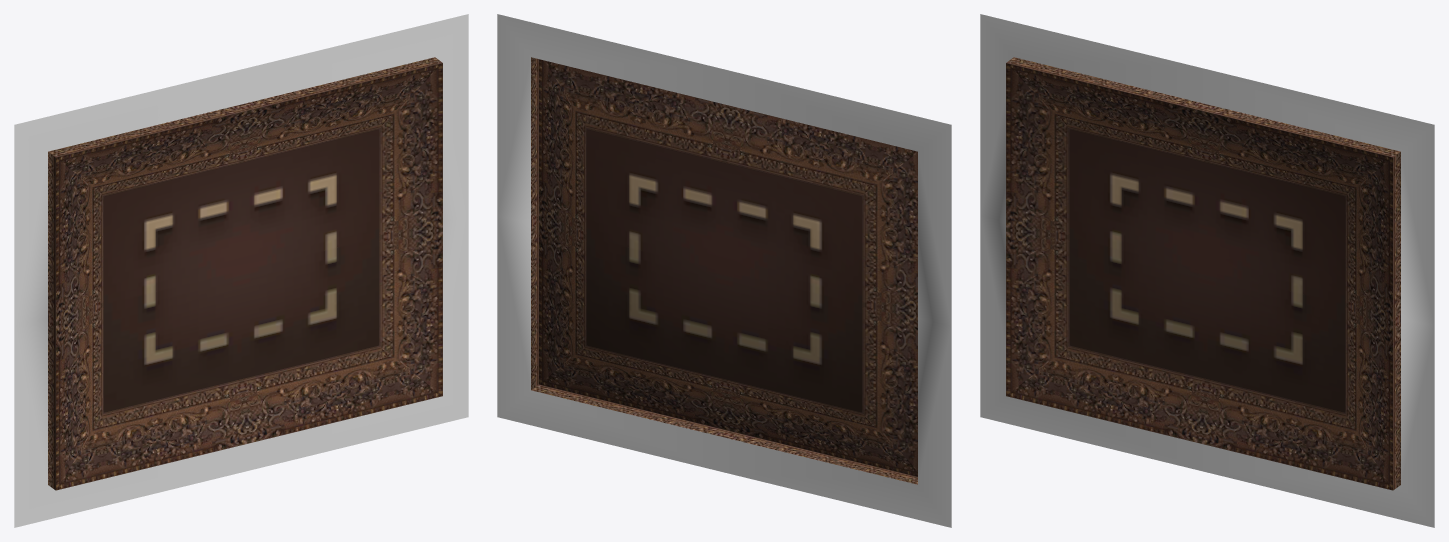
The model's file is Frame_10_Small.dae.
3 renders of one model, left to right at view 1: azimuth 30°, elevation 25°; view 2: azimuth 150°, elevation 25°; view 3: azimuth 330°, elevation 25°, orthographic.
Visible parts, largest first — view 1: Frame_10_Small (×3); view 2: Frame_10_Small (×3); view 3: Frame_10_Small (×3).
Boxes of the visible parts, x1,y1,x2,y2 form: Frame_10_Small (×3): (14,14,468,527); Frame_10_Small (×3): (497,14,951,527); Frame_10_Small (×3): (980,14,1434,527).
Bounding box in the file's own units: 272 × 231 × 8.27.
3 materials, 3 textured.
